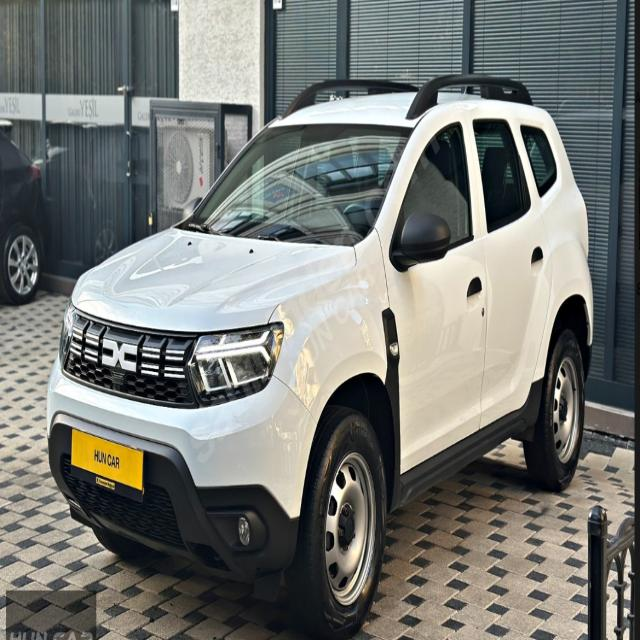dacia: (100, 329, 140, 380)
